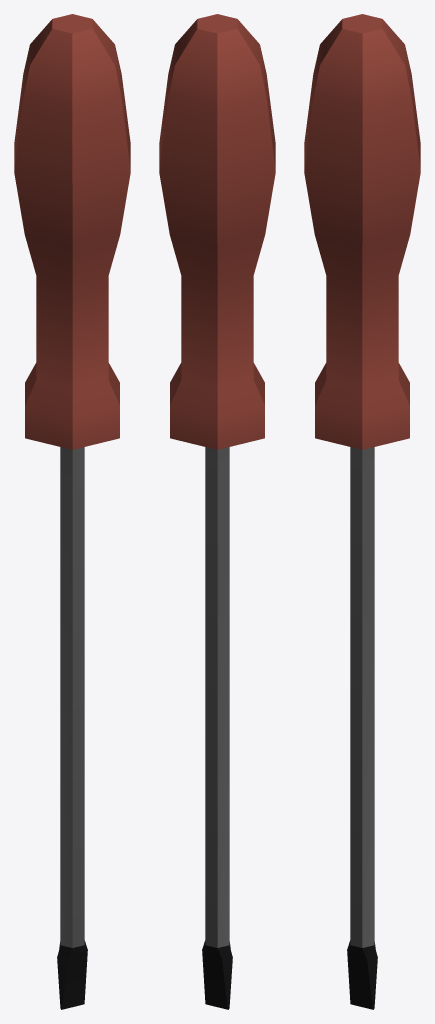
The model's file is srubokret.fbx.
The picture shows the model from 3 angles, left to right: view 1: azimuth 30°, elevation 25°; view 2: azimuth 150°, elevation 25°; view 3: azimuth 330°, elevation 25°; orthographic projection.
Visible parts, largest first — view 1: Sriubokret_LOD0; view 2: Sriubokret_LOD0; view 3: Sriubokret_LOD0.
Part boxes in pixels (x1=…): Sriubokret_LOD0: x1=14, y1=14, x2=130, y2=1009; Sriubokret_LOD0: x1=159, y1=14, x2=275, y2=1009; Sriubokret_LOD0: x1=304, y1=14, x2=420, y2=1009.
Size of what is drawn, in the model's own units: 3.98 by 32.1 by 3.45.
